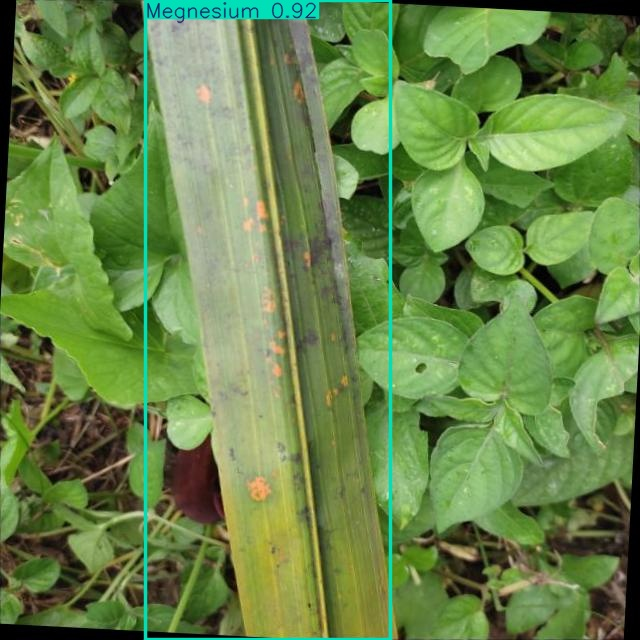Megnesium: (146, 0, 391, 640)
